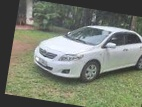car: (30, 14, 142, 92)
